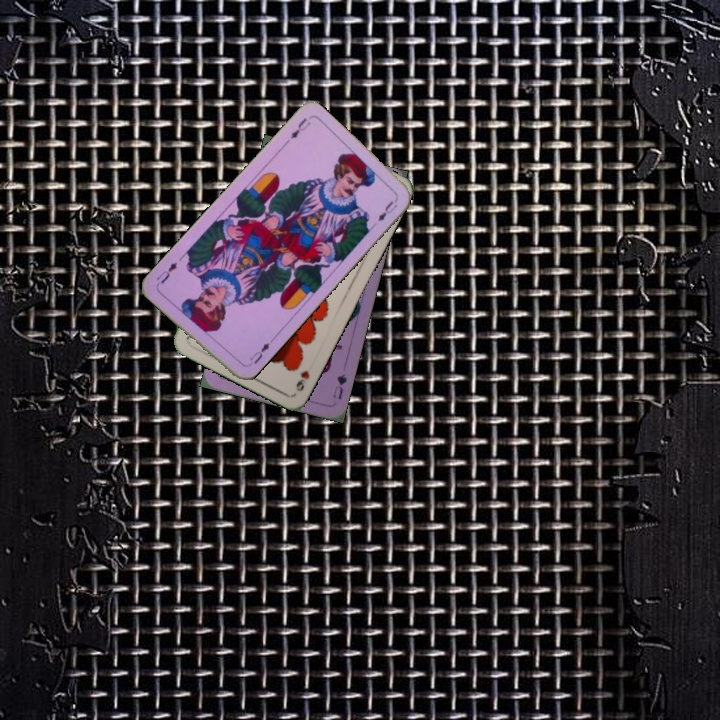EU: (286, 114, 313, 141), (246, 339, 272, 367)
GU: (329, 369, 350, 402)
H9: (292, 366, 312, 394)
